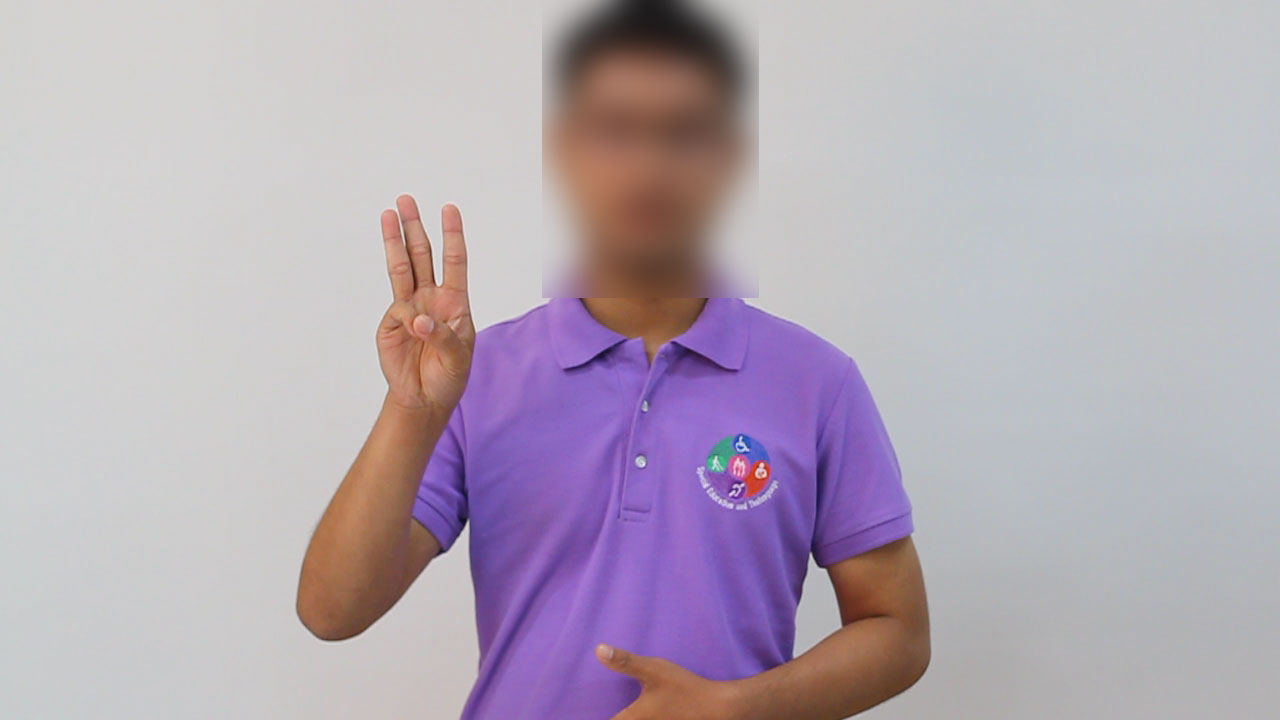wor: (364, 187, 487, 427)
